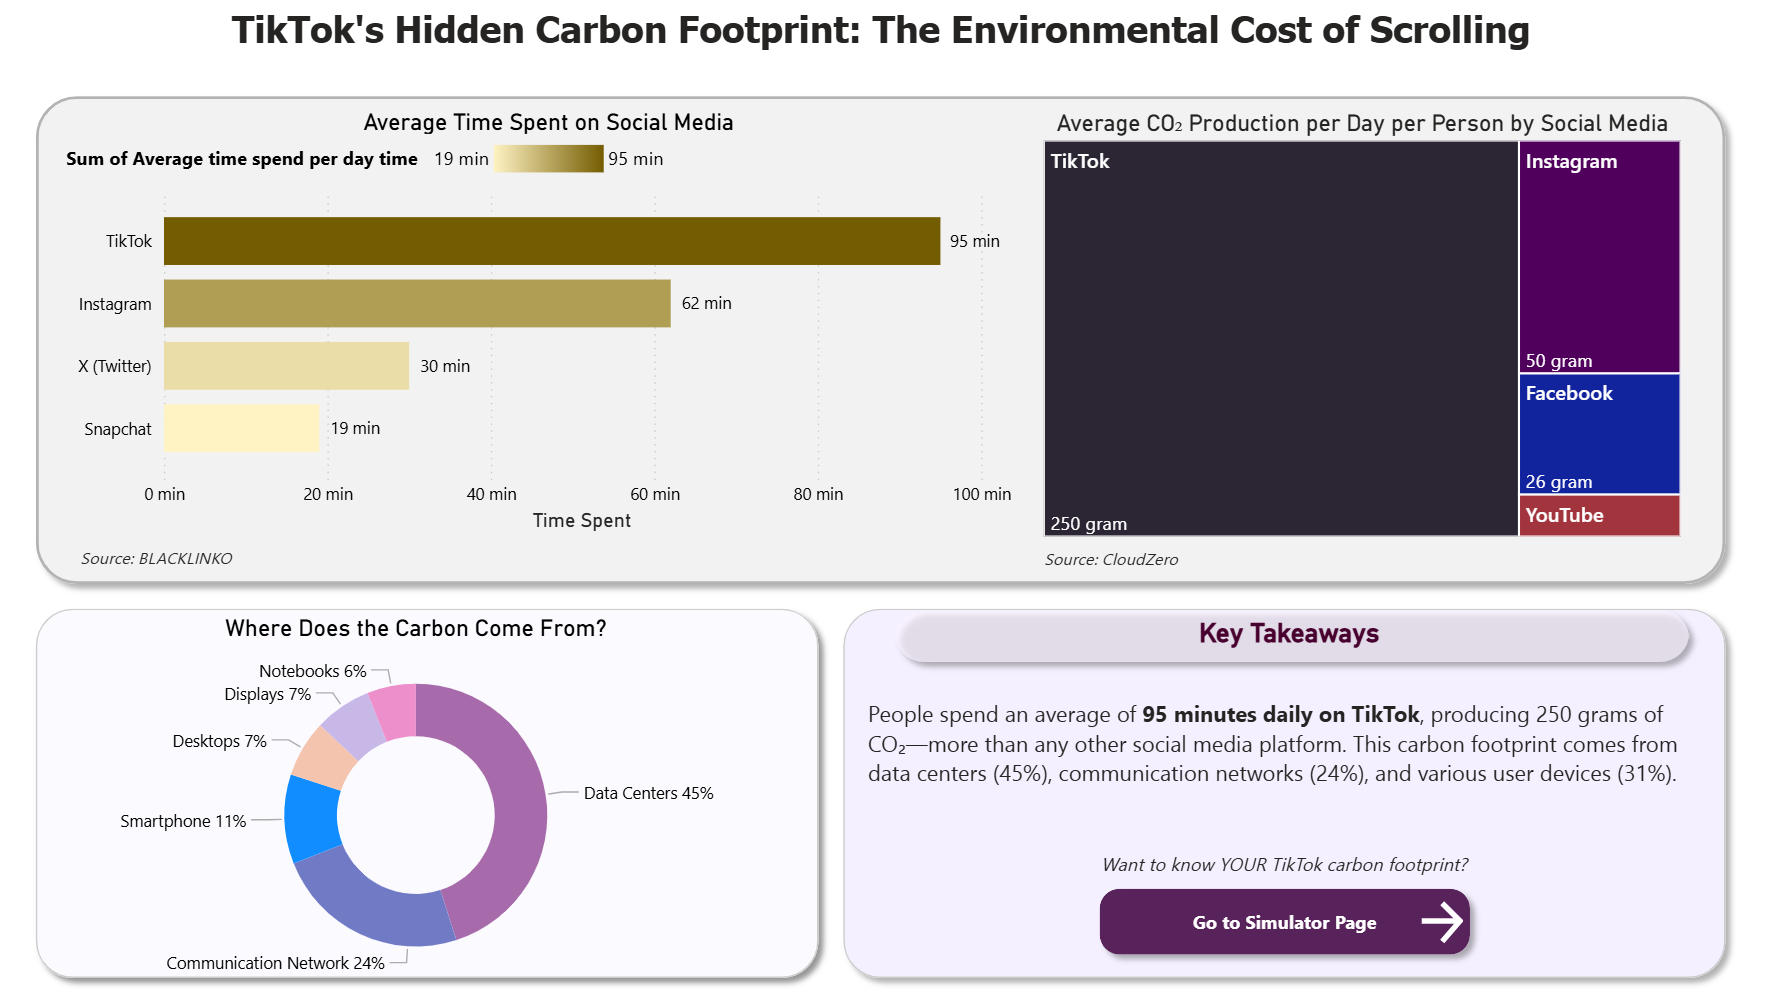

The dashboard page shown, as its layout file describes it:
{"tool":"powerbi","page":{"name":"The Environmental Cost of Scrolling","canvas":[1280,720],"ordinal":0},"visuals":[{"type":"shape","box":[603.8,434.1,659.5,286.6],"z":0},{"type":"shape","box":[16.7,61.2,1246.6,372.9],"z":1000},{"type":"treemap","title":"Average CO₂ Production per Day per Person by Social Media","fields":{"Group":["Sheet1.Social Media Platform "],"Values":["Sum(Sheet1.Average Amount Of CO2 Produced Per Day Per Person (Grams)"]},"box":[754.1,77.9,473,317.2],"z":2000},{"type":"barChart","title":"Average Time Spent on Social Media","fields":{"Y":["Sum(Table.Average time spend per day time )"],"Category":["Table.Social Media"]},"box":[43.1,77.9,711,313],"z":3000},{"type":"shape","box":[16.7,434.1,587.1,286.6],"z":4500},{"type":"shape","box":[640.6,434.1,595.9,56],"z":5000},{"type":"textbox","box":[0,0,1280.3,42.5],"z":6000},{"type":"shape","box":[789.9,636.9,287.4,65.9],"z":7000},{"type":"textbox","box":[625.7,502.6,617,112],"z":8000},{"type":"textbox","box":[776.2,614.5,313.5,34.8],"z":9000},{"type":"actionButton","box":[1027.5,650.6,99.5,39.8],"z":10000},{"type":"textbox","box":[52.9,391,135,27.8],"z":11000},{"type":"textbox","box":[753.8,391.8,134.3,42.3],"z":12000},{"type":"textbox","box":[653.1,444.1,573.5,33.6],"z":13000},{"type":"donutChart","title":"Where Does the Carbon Come From?","fields":{"Y":["Sum(Sheet2.Column2)"],"Category":["Sheet2.Sources"]},"box":[0,446.6,603.8,274.1],"z":13500}]}

Visuals, with their boxes in screenshot pixels (x1, y1, x2, y2), scaled from the page's 1280x720 canvas onto the 1772x989 screenshot:
shape: x1=836, y1=596, x2=1749, y2=988
shape: x1=23, y1=84, x2=1749, y2=596
"Average CO₂ Production per Day per Person by Social Media" treemap: x1=1044, y1=107, x2=1699, y2=543
"Average Time Spent on Social Media" barChart: x1=60, y1=107, x2=1044, y2=537
shape: x1=23, y1=596, x2=836, y2=988
shape: x1=887, y1=596, x2=1712, y2=673
textbox: x1=0, y1=0, x2=1771, y2=58
shape: x1=1094, y1=875, x2=1491, y2=965
textbox: x1=866, y1=690, x2=1720, y2=844
textbox: x1=1075, y1=844, x2=1509, y2=892
actionButton: x1=1422, y1=894, x2=1560, y2=948
textbox: x1=73, y1=537, x2=260, y2=575
textbox: x1=1044, y1=538, x2=1229, y2=596
textbox: x1=904, y1=610, x2=1698, y2=656
"Where Does the Carbon Come From?" donutChart: x1=0, y1=613, x2=836, y2=988
